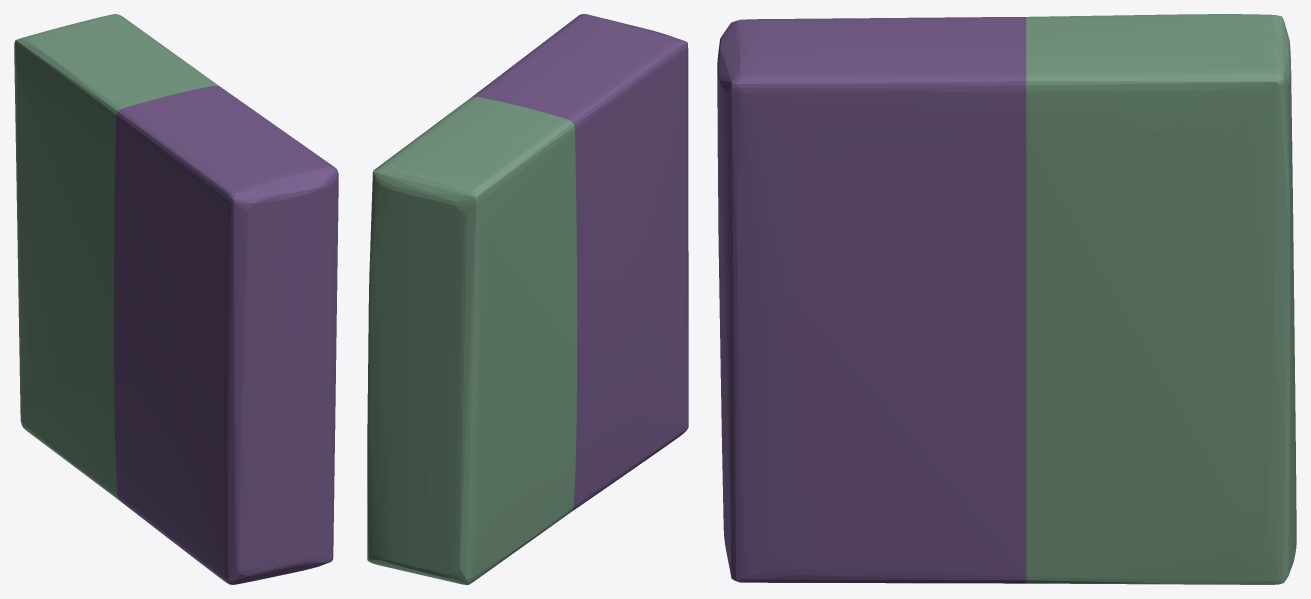
Rendered from coacd_collision.obj.
3 renders of one model, left to right at view 1: azimuth 30°, elevation 25°; view 2: azimuth 150°, elevation 25°; view 3: azimuth 270°, elevation 25°, orthographic. The views are drawn at different scales.
Visible parts, largest first — view 1: geometry_1, geometry_0; view 2: geometry_0, geometry_1; view 3: geometry_1, geometry_0.
Boxes of the visible parts, x1,y1,x2,y2 form: geometry_1: (114, 86, 338, 584); geometry_0: (14, 14, 219, 499); geometry_0: (367, 97, 577, 584); geometry_1: (471, 14, 688, 511); geometry_1: (717, 17, 1026, 583); geometry_0: (1026, 14, 1296, 584).
Size of the model in its own units: 42.69 by 145 by 148.
